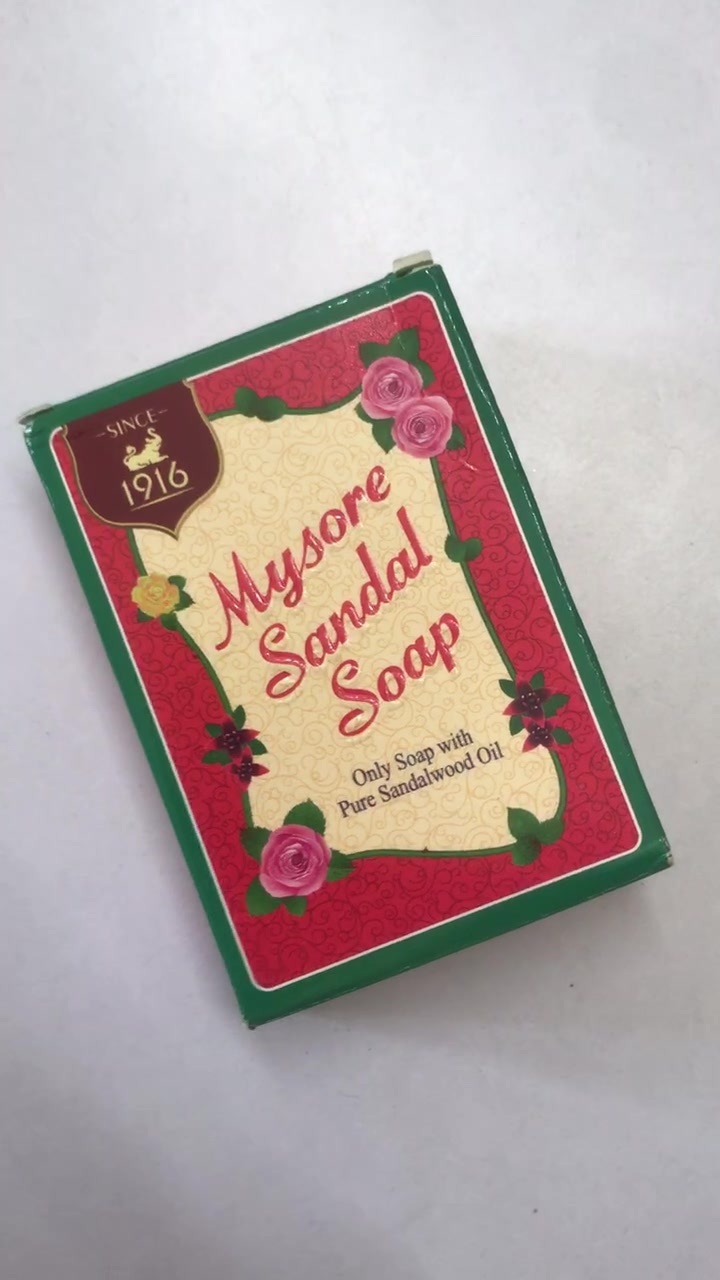mysore sandal soap: (23, 268, 667, 1031)
